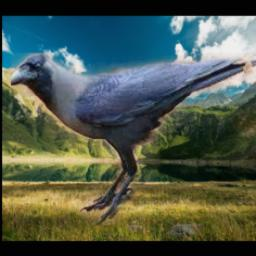Crow: (11, 53, 256, 225)
